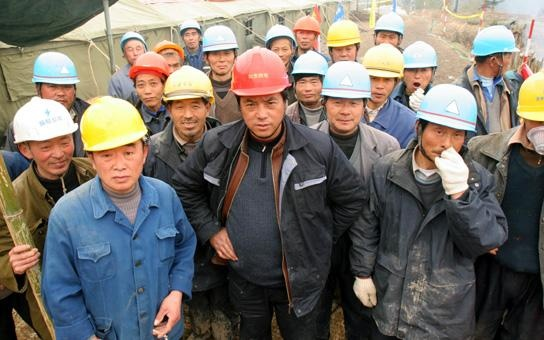blue: (416, 84, 475, 163), (321, 60, 369, 133), (473, 24, 516, 81), (33, 52, 76, 108), (400, 42, 438, 94), (201, 25, 238, 76), (290, 51, 325, 104), (371, 8, 407, 49), (263, 25, 294, 63), (120, 29, 147, 64), (179, 17, 201, 49)
red: (230, 45, 289, 134), (131, 54, 166, 108), (293, 15, 320, 49)
white: (12, 96, 75, 174)
yellow: (82, 98, 147, 194), (164, 67, 213, 135), (362, 46, 399, 108), (515, 72, 544, 146), (326, 17, 363, 64)
